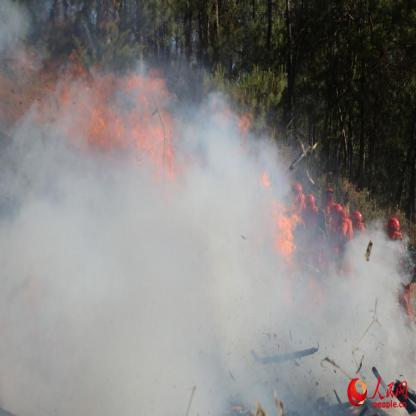fire: (3, 42, 175, 174), (264, 178, 296, 258)
other: (296, 181, 364, 258), (382, 204, 404, 254)
